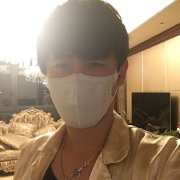face_mask: (45, 50, 114, 126)
